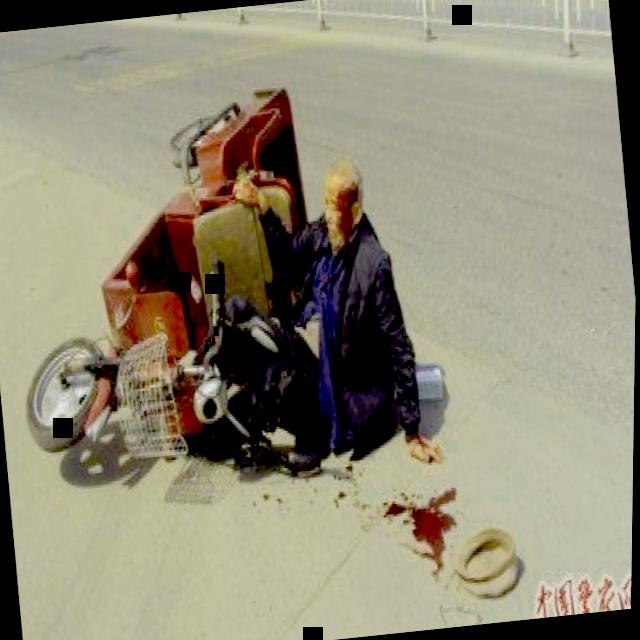Fall-Detected: (171, 118, 456, 496)
